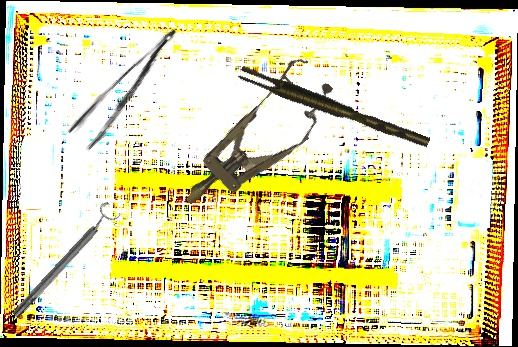Dressing Forceps: (65, 24, 196, 153)
Fixation Ring: (5, 200, 123, 323)
Speculum: (164, 51, 347, 228)
Tissue Forceps: (237, 60, 431, 157)
